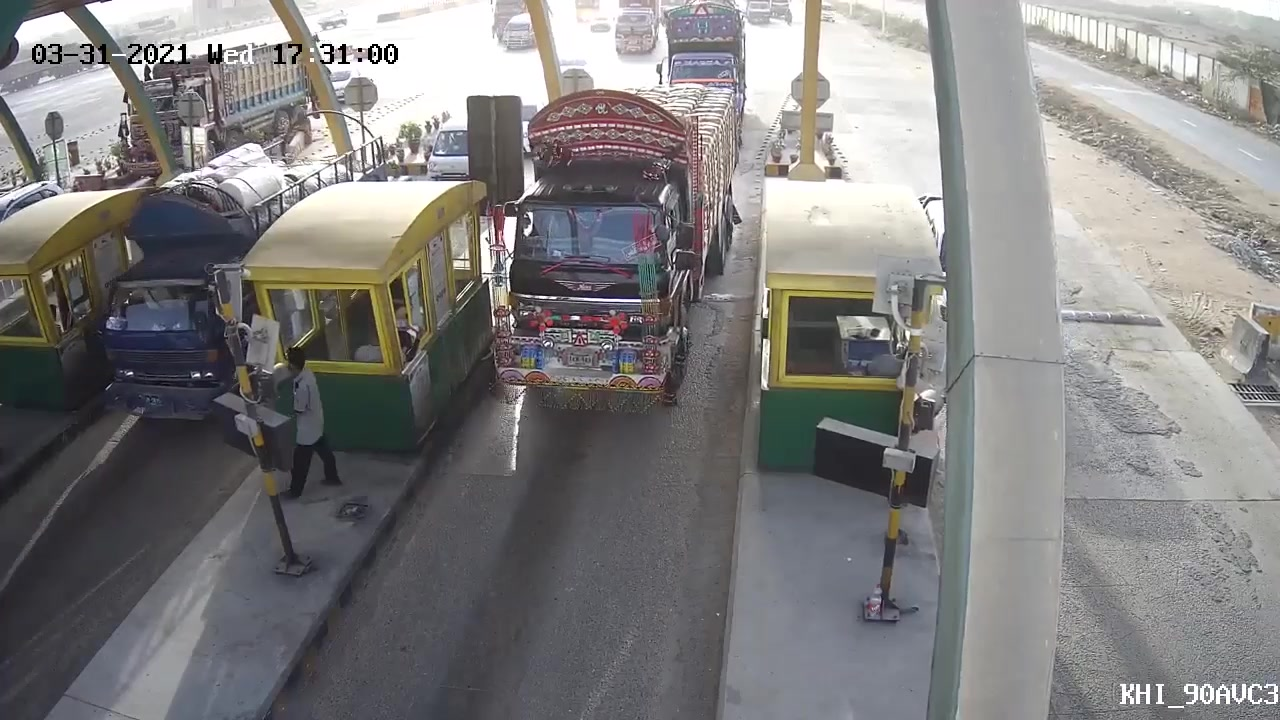F5: (476, 72, 749, 416)
